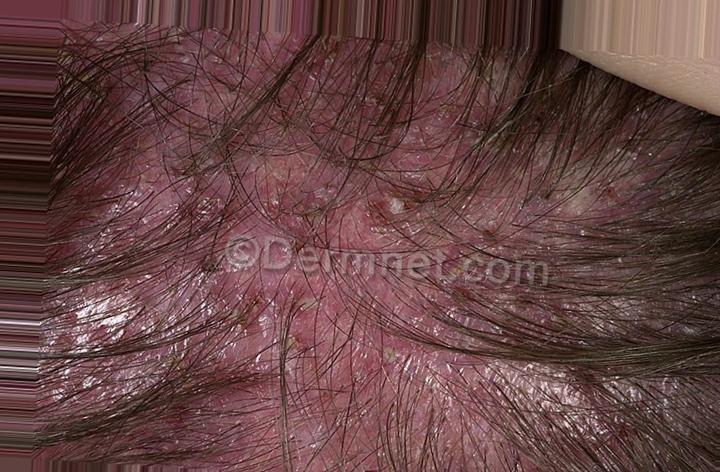Folliculitis: (191, 68, 611, 228)
